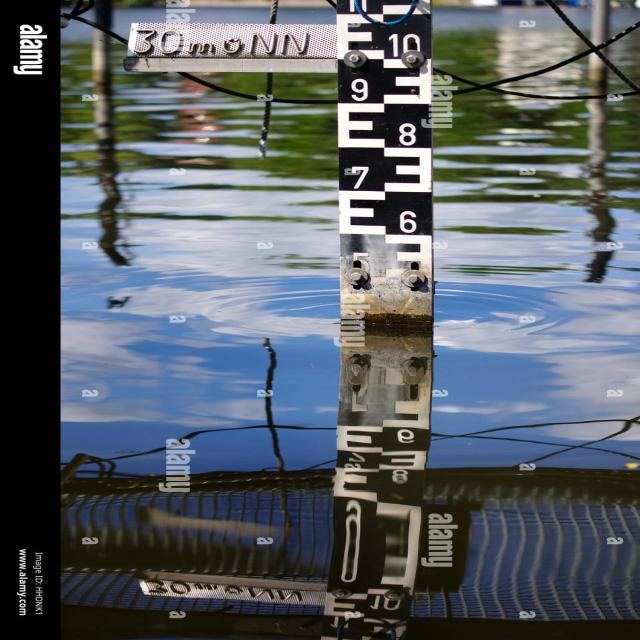ruler: (306, 0, 452, 331)
value: (380, 28, 430, 62), (338, 162, 378, 195), (391, 203, 428, 237), (340, 247, 376, 279), (391, 116, 423, 150), (346, 76, 374, 106)
